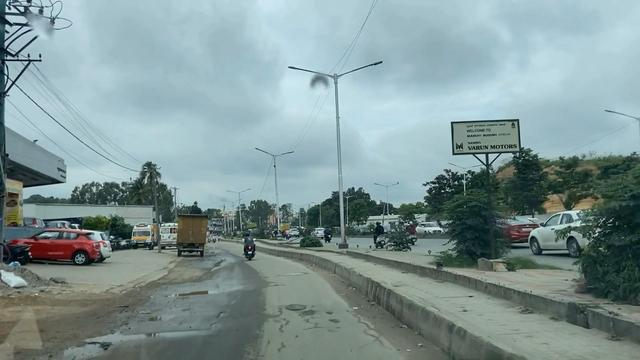RoadDamages: (79, 322, 174, 360), (268, 294, 337, 341), (139, 302, 208, 334), (160, 281, 219, 306)
